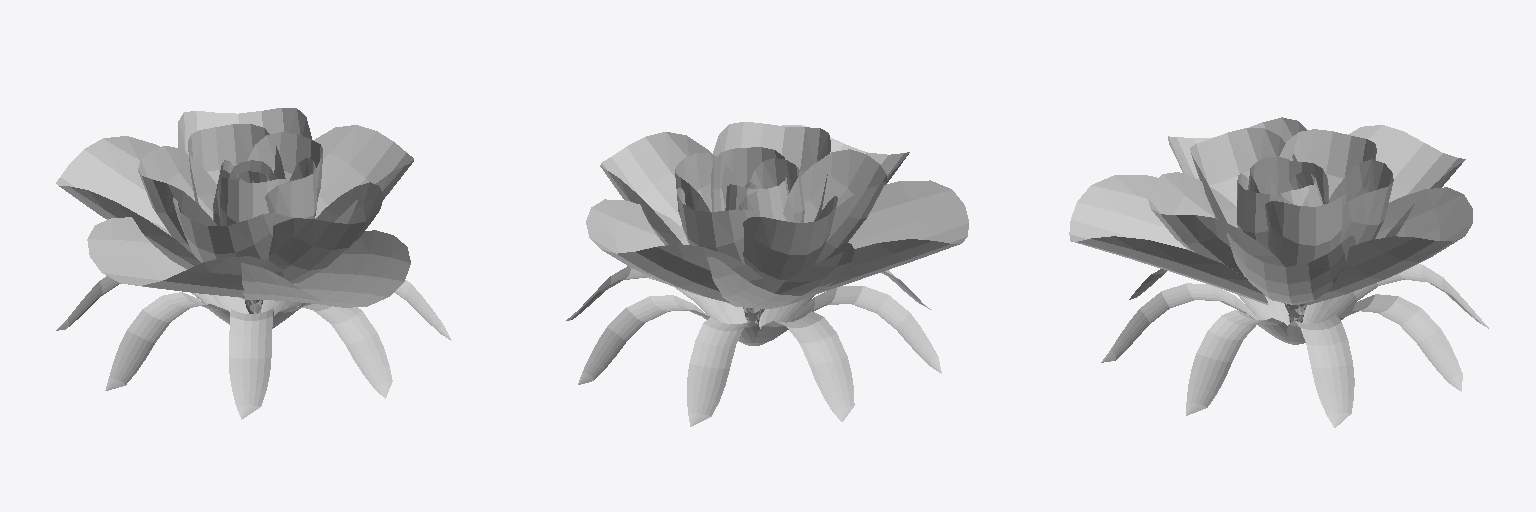
Rendered from FlowerTopModel_03_seq_0034.obj.
The picture shows the model from 3 angles: view 1: azimuth 30°, elevation 25°; view 2: azimuth 150°, elevation 25°; view 3: azimuth 270°, elevation 25°; orthographic projection.
Visible parts, largest first — view 1: FlowerTopModel_03; view 2: FlowerTopModel_03; view 3: FlowerTopModel_03.
Part boxes in pixels (x1,y1,x2,y2): FlowerTopModel_03: (56,108,451,419); FlowerTopModel_03: (566,122,968,426); FlowerTopModel_03: (1069,117,1488,427).
Bounding box in the file's own units: 769 × 367 × 802.